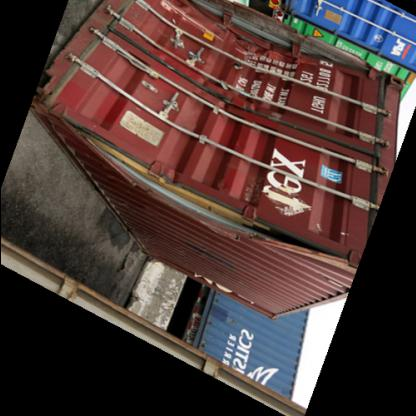Damage: (86, 119, 302, 273)
